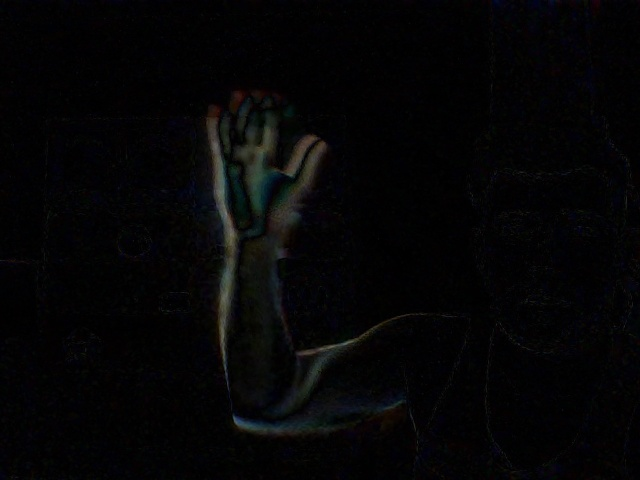arm_fo: (191, 71, 328, 442)
